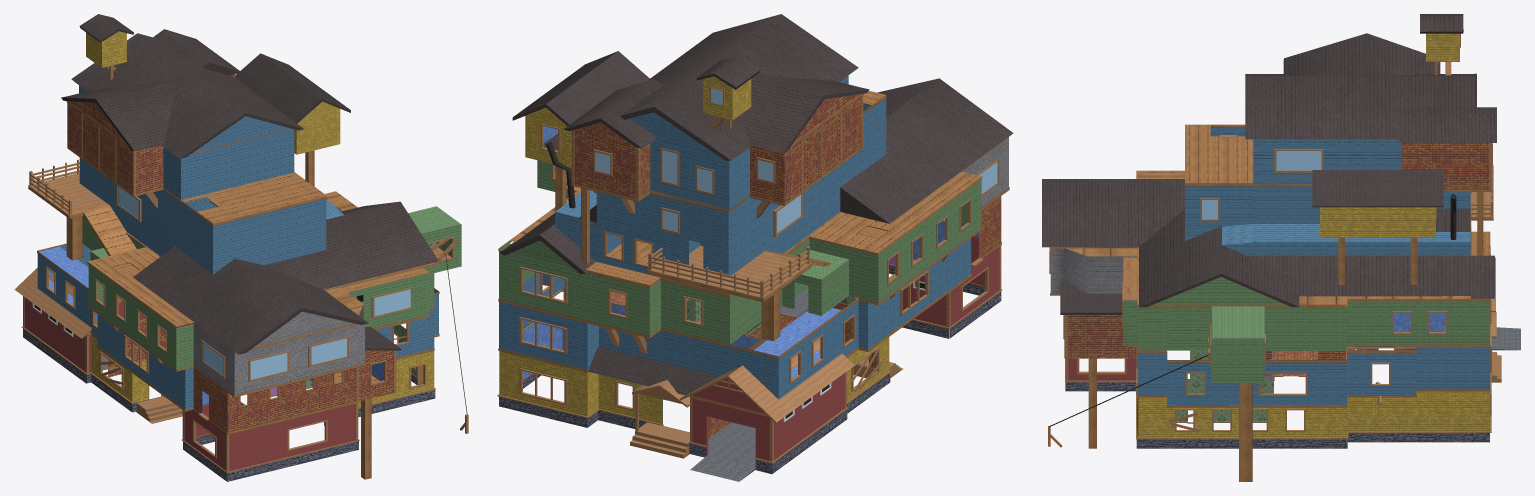
File: House_1.fbx
3 views of the same model, side by side, from view 1: azimuth 30°, elevation 25°; view 2: azimuth 150°, elevation 25°; view 3: azimuth 270°, elevation 25° (orthographic). The views are drawn at different scales.
Visible parts, largest first — view 1: House_1, House_3, House_2; view 2: House_1, House_3, House_2; view 3: House_1, House_3.
Boxes of the visible parts, bbox=[...] form: House_1: bbox=[14, 14, 461, 481]; House_3: bbox=[133, 201, 438, 354]; House_2: bbox=[198, 236, 468, 433]; House_1: bbox=[497, 14, 1009, 481]; House_3: bbox=[499, 78, 1013, 274]; House_2: bbox=[971, 159, 999, 266]; House_1: bbox=[1049, 14, 1520, 481]; House_3: bbox=[1042, 179, 1494, 307].
Bounding box in the file's own units: 3162 × 3384 × 3843.
